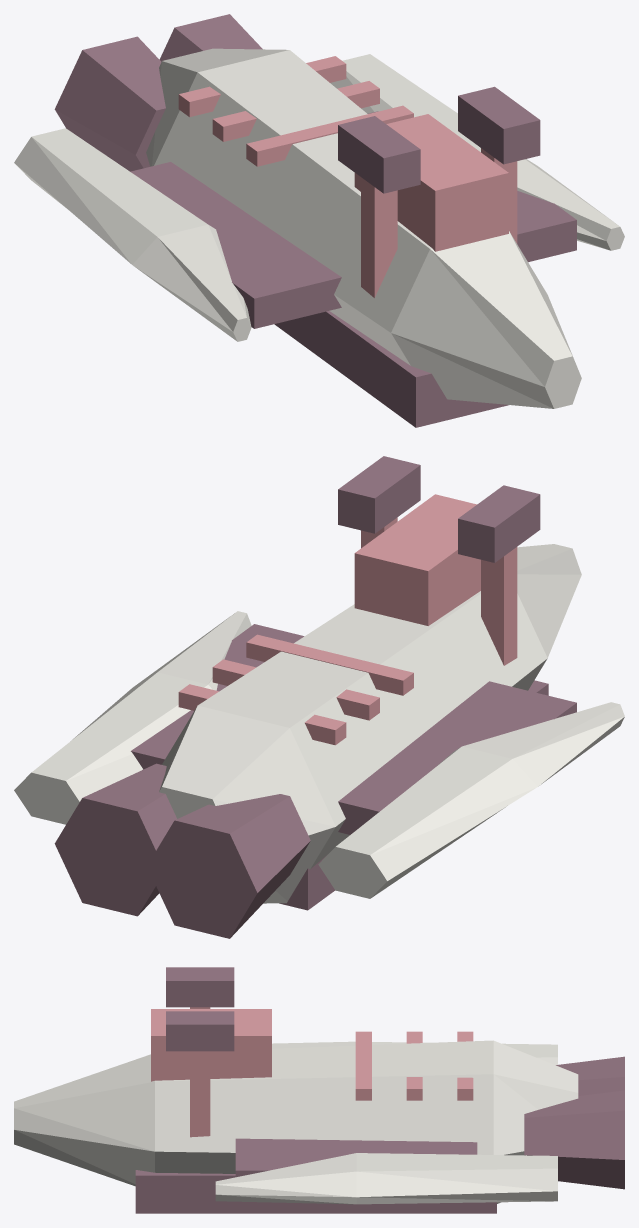
3 views of the same model, one above another, from view 1: azimuth 30°, elevation 25°; view 2: azimuth 150°, elevation 25°; view 3: azimuth 270°, elevation 25° (orthographic). The views are drawn at different scales.
Bounding box in the file's own units: 3.7 × 2.24 × 6.43.
